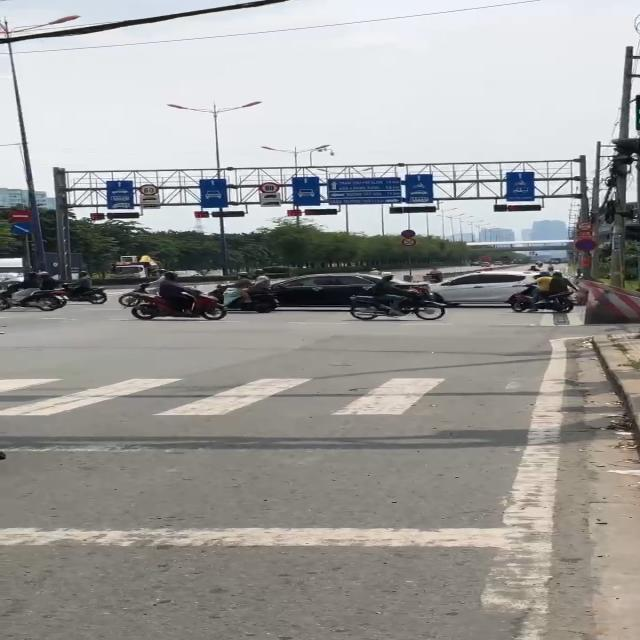Bien bao cam di nguoc chieu: (7, 208, 33, 223)
Bien bao huong phai di vong chuong ngai vat: (9, 222, 36, 238)
Bien bao toc do toi da cho phep: (134, 184, 162, 195)
